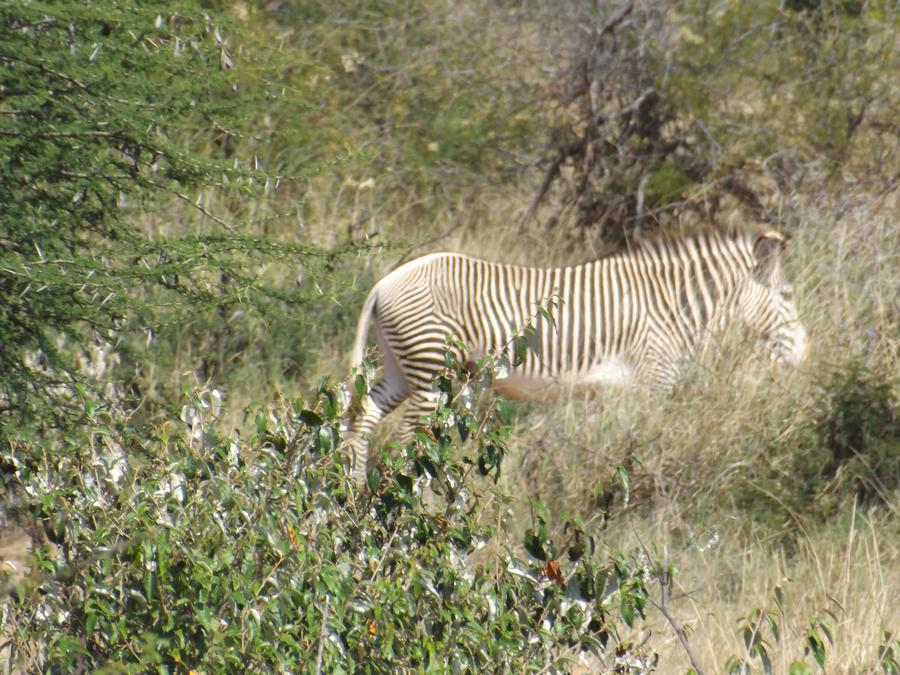zebra_grevys: (370, 235, 680, 389)
